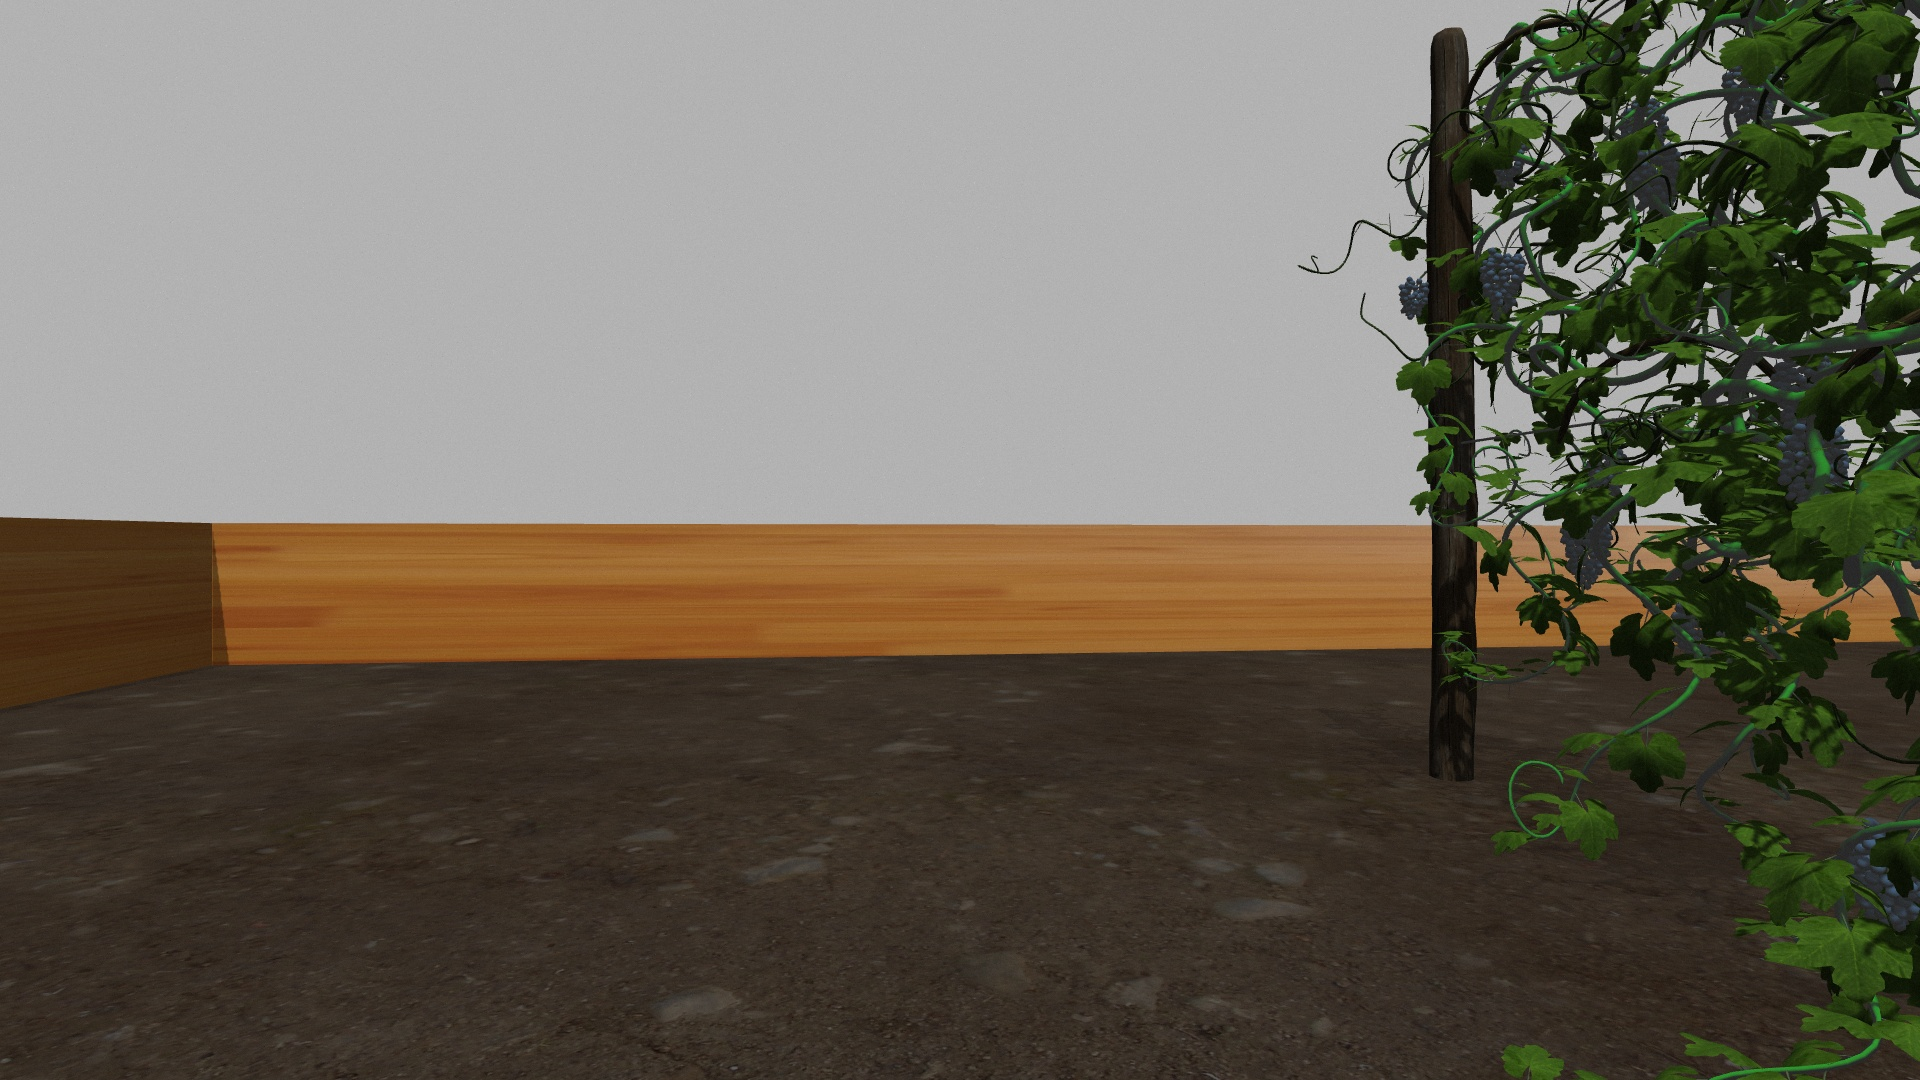grape: (1849, 822, 1916, 935), (1779, 425, 1851, 502), (1559, 516, 1614, 589), (1478, 248, 1524, 322), (1721, 66, 1778, 125), (1633, 145, 1683, 204), (1398, 276, 1431, 322)
